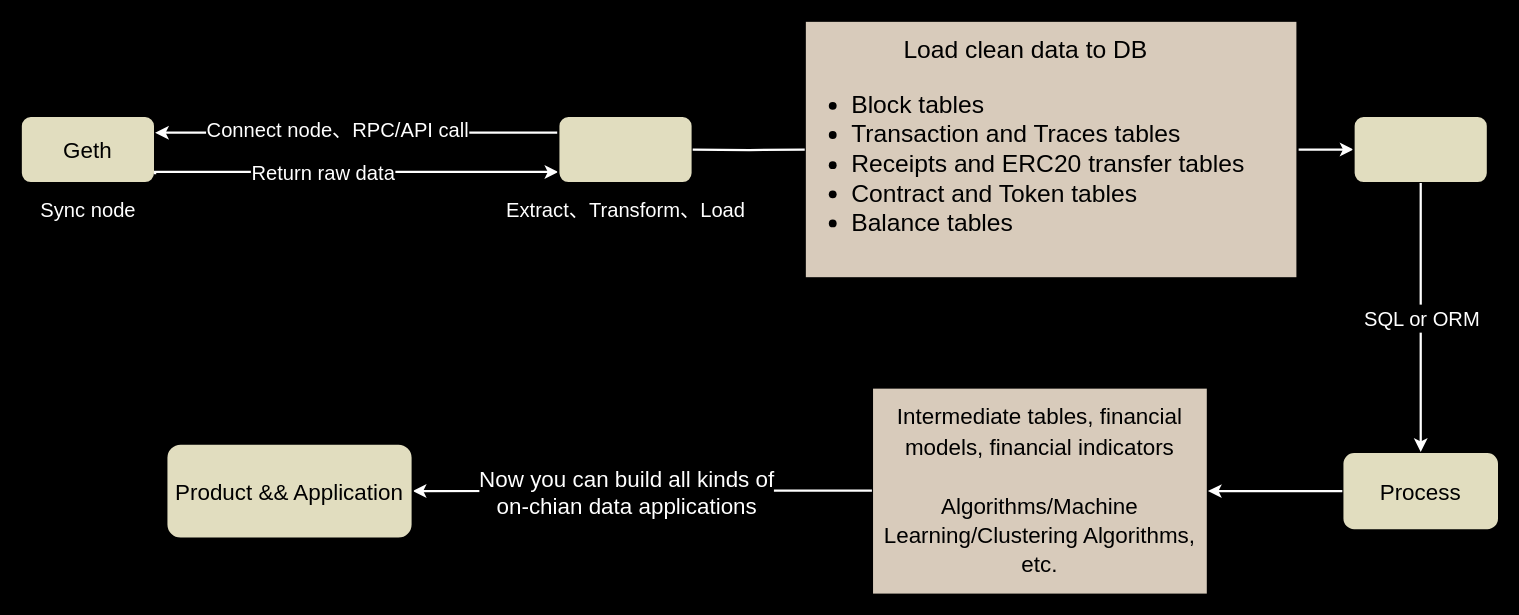
Image size: 1519x615. Some labels were removed from this diagram. The centre of each missing label's shape, as x and y in pixels:
"DATABASE" belongs at [1420,149].
"ETL Tools" belongs at [625,149].
